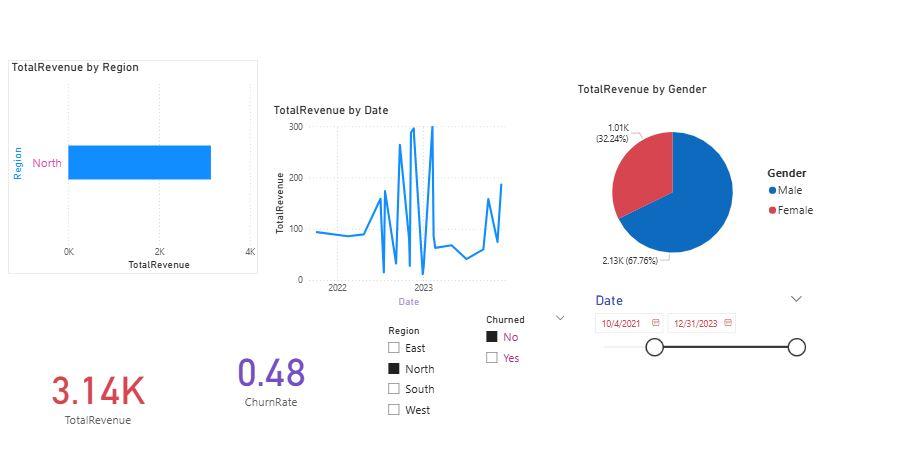

Layout of this report page (visuals, bound fields, positions):
{"tool":"powerbi","page":{"name":"Page 1","canvas":[1280,720],"ordinal":0},"visuals":[{"type":"clusteredBarChart","fields":{"Category":["Customer.Region"],"Y":["Transactions.TotalRevenue"]},"box":[16.2,86.5,352.7,301.4],"z":0},{"type":"lineChart","fields":{"Category":["Date.Date"],"Y":["Transactions.TotalRevenue"]},"box":[386.4,146.1,352.8,292.3],"z":1000},{"type":"pieChart","fields":{"Category":["Customer.Gender"],"Y":["Transactions.TotalRevenue"]},"box":[813.5,116.2,352.7,291.9],"z":2000},{"type":"card","fields":{"Values":["Transactions.TotalRevenue"]},"box":[0,408.2,287.2,292.3],"z":3000},{"type":"card","fields":{"Values":["Customer.ChurnRate"]},"box":[259.5,418.9,256.8,221.6],"z":4000},{"type":"slicer","fields":{"Values":["Customer.Region"]},"box":[539.2,454.1,101.4,210.8],"z":5000},{"type":"slicer","fields":{"Values":["Customer.Churned"]},"box":[677,438.4,136.1,225.1],"z":6000},{"type":"slicer","fields":{"Values":["Date.Date"]},"box":[831.7,408.5,317.4,213.1],"z":7000}]}

Visuals, with their boxes on the page's 1280x720 design canvas (x1, y1, x2, y2). These are canvas units, not pixel positions in the 903x452 screenshot, which may show the page scaled, cropped or inside an application window:
clusteredBarChart - Customer.Region x Transactions.TotalRevenue: l=16, t=86, r=369, b=388
lineChart - Date.Date x Transactions.TotalRevenue: l=386, t=146, r=739, b=438
pieChart - Customer.Gender x Transactions.TotalRevenue: l=814, t=116, r=1166, b=408
card - Transactions.TotalRevenue: l=0, t=408, r=287, b=700
card - Customer.ChurnRate: l=260, t=419, r=516, b=640
slicer - Customer.Region: l=539, t=454, r=641, b=665
slicer - Customer.Churned: l=677, t=438, r=813, b=664
slicer - Date.Date: l=832, t=408, r=1149, b=622
